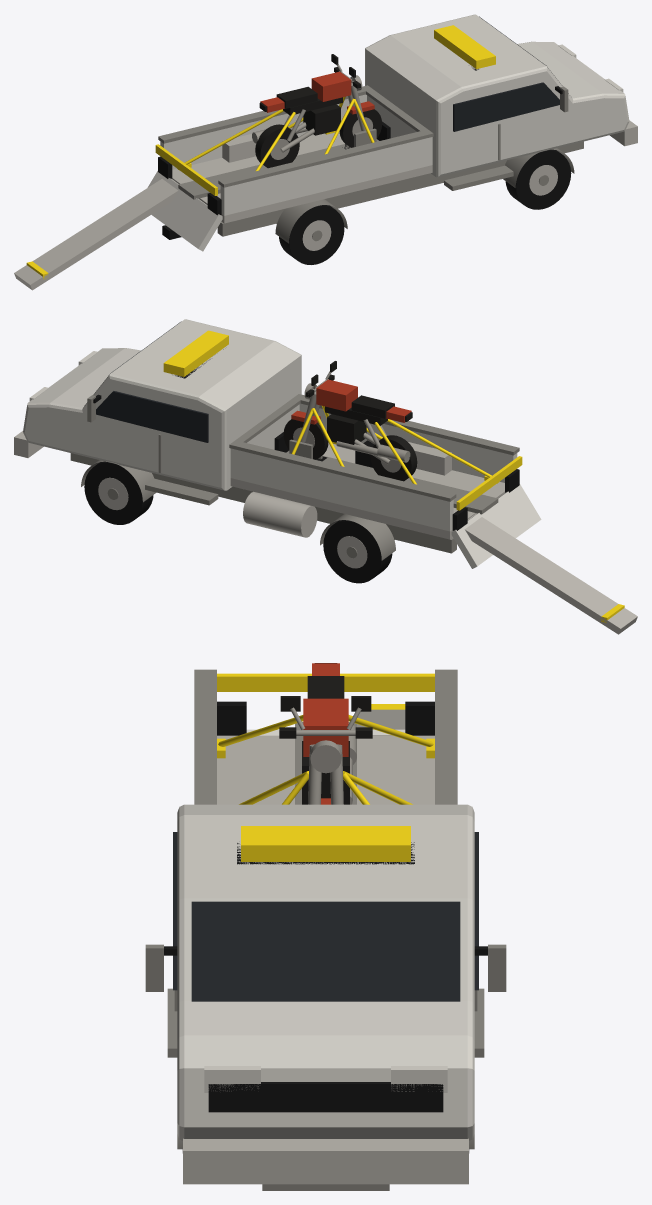
Rendered from rollout-motorcycle-tow.glb.
3 renders of one model, top to bottom at view 1: azimuth 30°, elevation 25°; view 2: azimuth 150°, elevation 25°; view 3: azimuth 270°, elevation 25°, orthographic. The views are drawn at different scales.
Visible parts, largest first — view 1: cab_shell, bed_side_l, loading_ramp, bed_floor, frame_rail_r, cab_side_glass, tailgate, bed_side_r, wheel_rear_l_tire, wheel_front_l_tire, bed_rail_cap_l, light_bar (+19 smaller); view 2: cab_shell, bed_side_r, loading_ramp, bed_floor, cab_side_glass, tailgate, bed_side_l, fuel_tank, wheel_front_r_tire, wheel_rear_r_tire, frame_rail_l, bed_rail_cap_r (+19 smaller); view 3: cab_shell, windshield, front_bumper, bed_floor, grille, light_bar, rear_hazard_stripe, bed_rail_cap_l, bed_rail_cap_r, bike_tank, cab_side_glass, headlight_r (+12 smaller).
Boxes of the visible parts, x1,y1,x2,y2 form: cab_shell: [365, 14, 629, 177]; bed_side_l: [220, 137, 432, 215]; loading_ramp: [14, 178, 178, 290]; bed_floor: [172, 131, 432, 223]; frame_rail_r: [217, 141, 583, 236]; cab_side_glass: [453, 82, 559, 131]; tailgate: [147, 171, 222, 251]; bed_side_r: [160, 94, 366, 169]; wheel_rear_l_tire: [279, 205, 344, 264]; wheel_front_l_tire: [505, 149, 571, 209]; bed_rail_cap_l: [218, 129, 433, 187]; light_bar: [434, 25, 495, 69]; cab_shell: [23, 319, 301, 490]; bed_side_r: [230, 448, 453, 531]; loading_ramp: [465, 513, 637, 634]; bed_floor: [230, 442, 504, 539]; cab_side_glass: [96, 391, 208, 442]; tailgate: [451, 484, 541, 568]; bed_side_l: [299, 403, 517, 482]; fuel_tank: [243, 491, 317, 537]; wheel_front_r_tire: [84, 461, 153, 524]; wheel_rear_r_tire: [323, 520, 392, 583]; frame_rail_l: [70, 453, 456, 553]; bed_rail_cap_r: [229, 440, 456, 501]; cab_shell: [177, 804, 474, 1140]; windshield: [191, 901, 460, 1001]; front_bumper: [183, 1138, 468, 1184]; bed_floor: [217, 735, 434, 804]; grille: [208, 1082, 443, 1112]; light_bar: [241, 826, 410, 861]; rear_hazard_stripe: [217, 673, 434, 691]; bed_rail_cap_l: [194, 669, 216, 804]; bed_rail_cap_r: [435, 669, 457, 804]; bike_tank: [303, 698, 348, 756]; cab_side_glass: [173, 832, 478, 990]; headlight_r: [391, 1066, 447, 1092].
Bounding box in the file's own units: 9.21 × 2.5 × 2.55.
